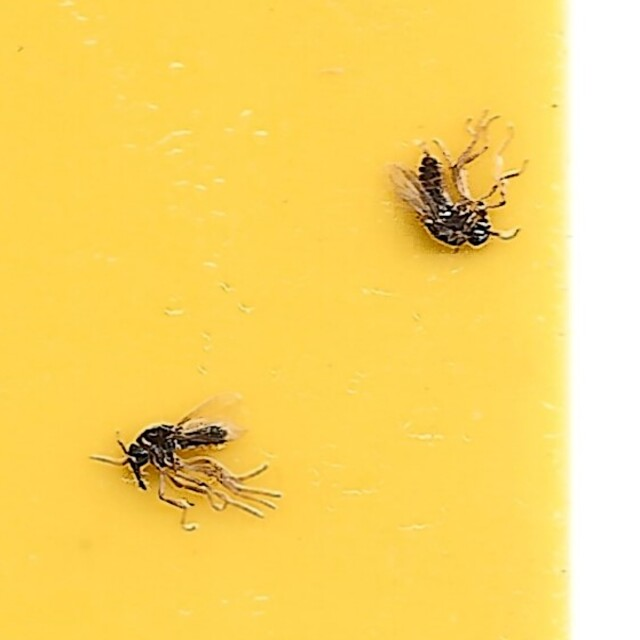Brachycera: (114, 388, 289, 534), (388, 106, 526, 260)
